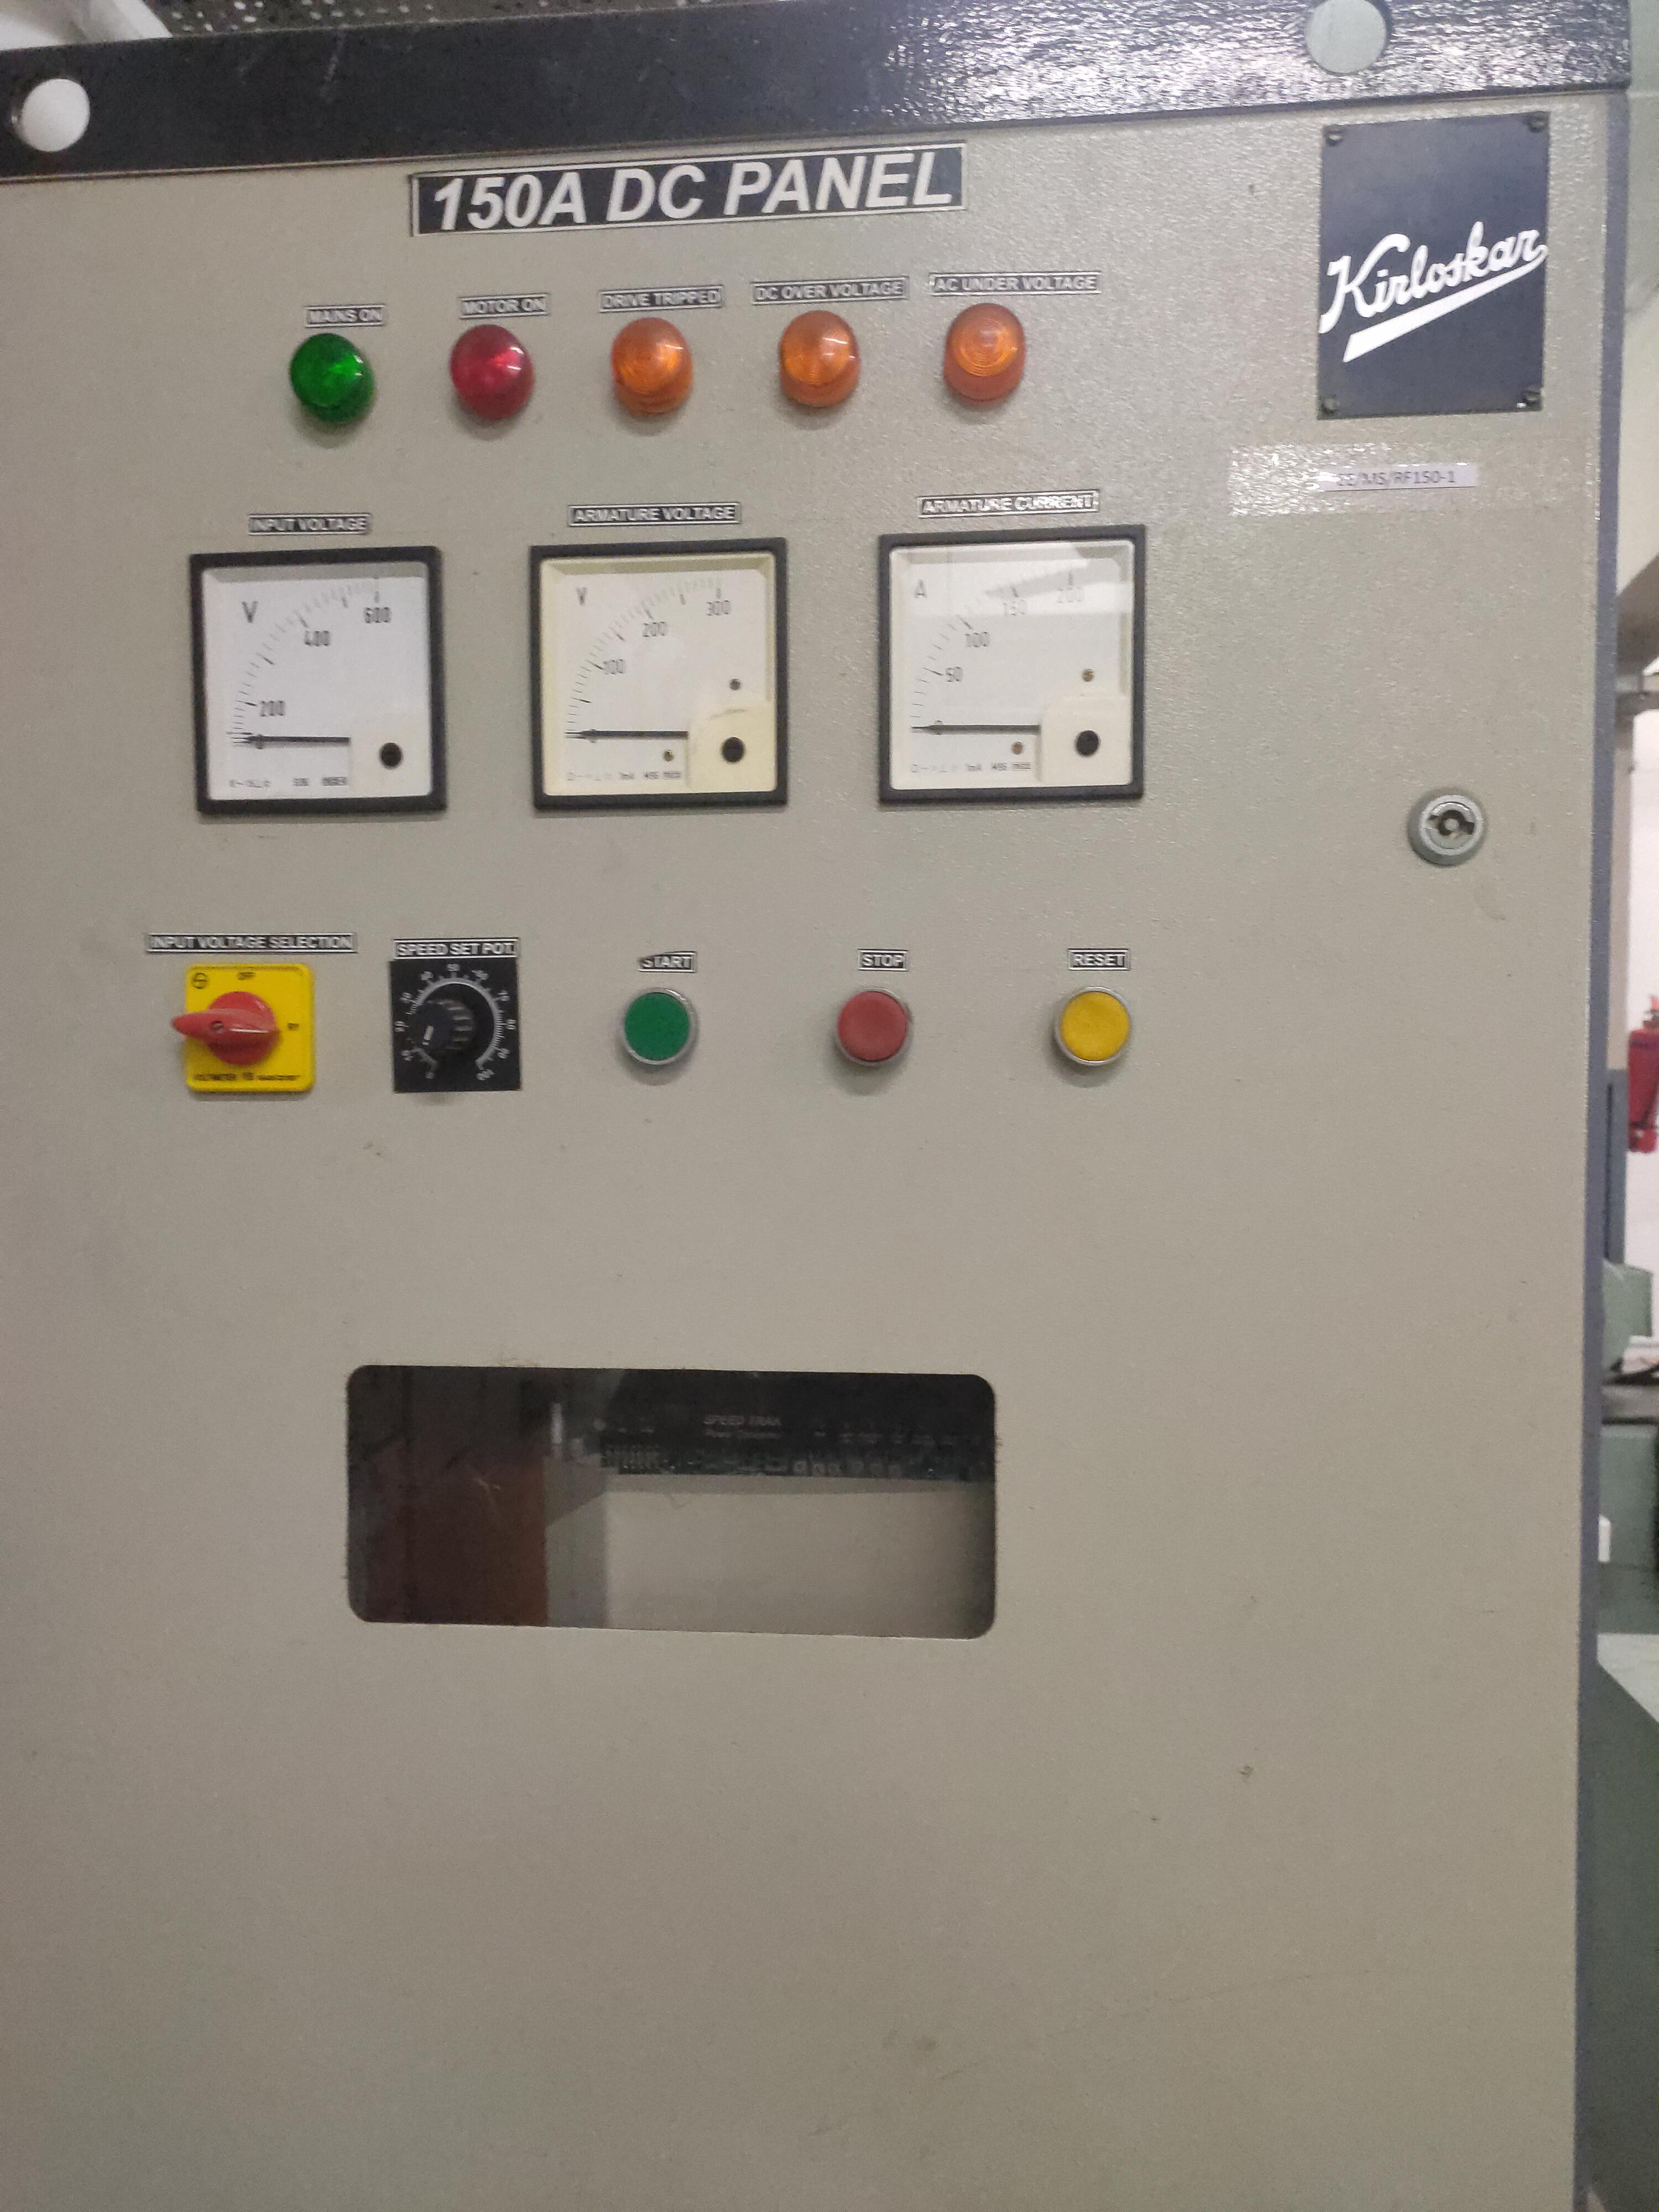Light Indications: (265, 273, 1058, 493)
